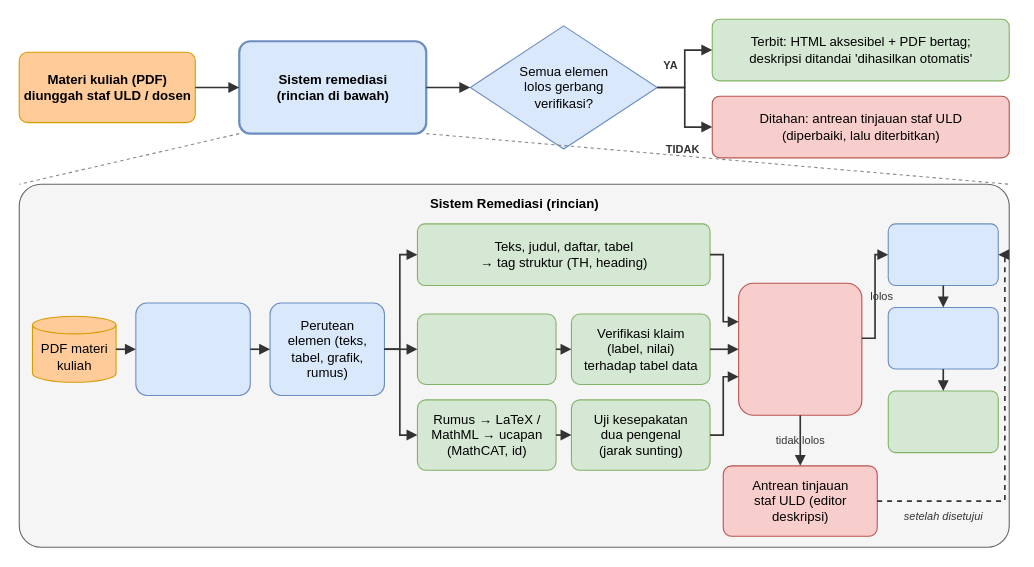
The diagram is 1034 pixels wide and 567 high, and some of its shapes have lost their labels. The centre of each missing label's shape, as x and y in pixels:
"Analisis tata letak, urutan baca, auto-tag" goes at (192,348).
"Ekstraksi tabel data grafik → deskripsi ID level 1–3 (VLM)" goes at (486,348).
"Gerbang verifikasi (fail-closed)" goes at (800,348).
"Keluaran: HTML + PDF bertag" goes at (942,421).
"Perakitan: tag, alt text, bahasa" goes at (942,254).
"Validasi veraPDF (PDF/UA-1)" goes at (942,337).
